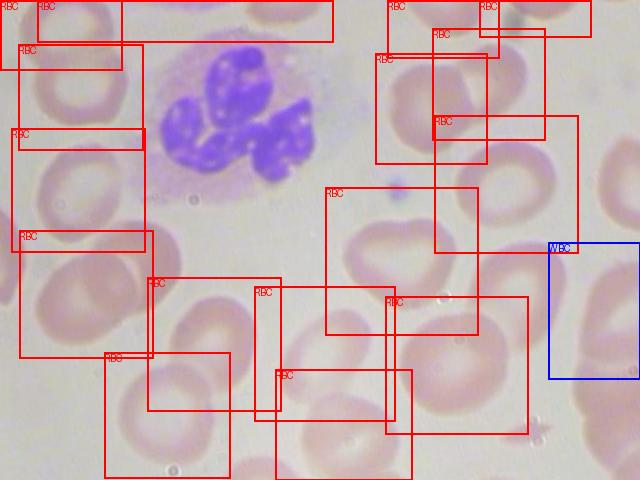RBC: (325, 187, 478, 335), (434, 115, 578, 253), (385, 296, 528, 434), (254, 286, 395, 421), (147, 277, 281, 411), (19, 230, 153, 358), (11, 128, 145, 252), (104, 352, 230, 478), (275, 369, 412, 480), (18, 44, 143, 150), (432, 28, 545, 140), (37, 0, 333, 42), (375, 53, 487, 164), (0, 0, 122, 70), (387, 0, 499, 58), (479, 0, 591, 37)
WBC: (548, 242, 640, 379)
